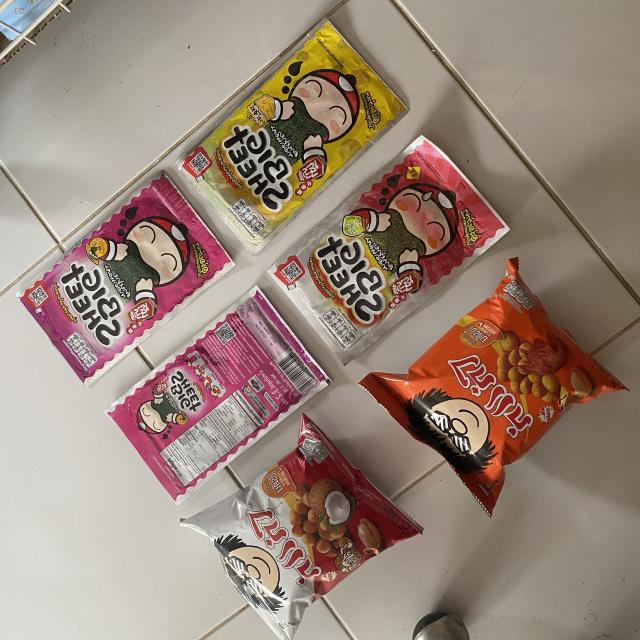plastik: (360, 258, 627, 515), (268, 136, 509, 364), (181, 415, 422, 640), (177, 19, 407, 254), (107, 288, 329, 504), (17, 172, 233, 386)
